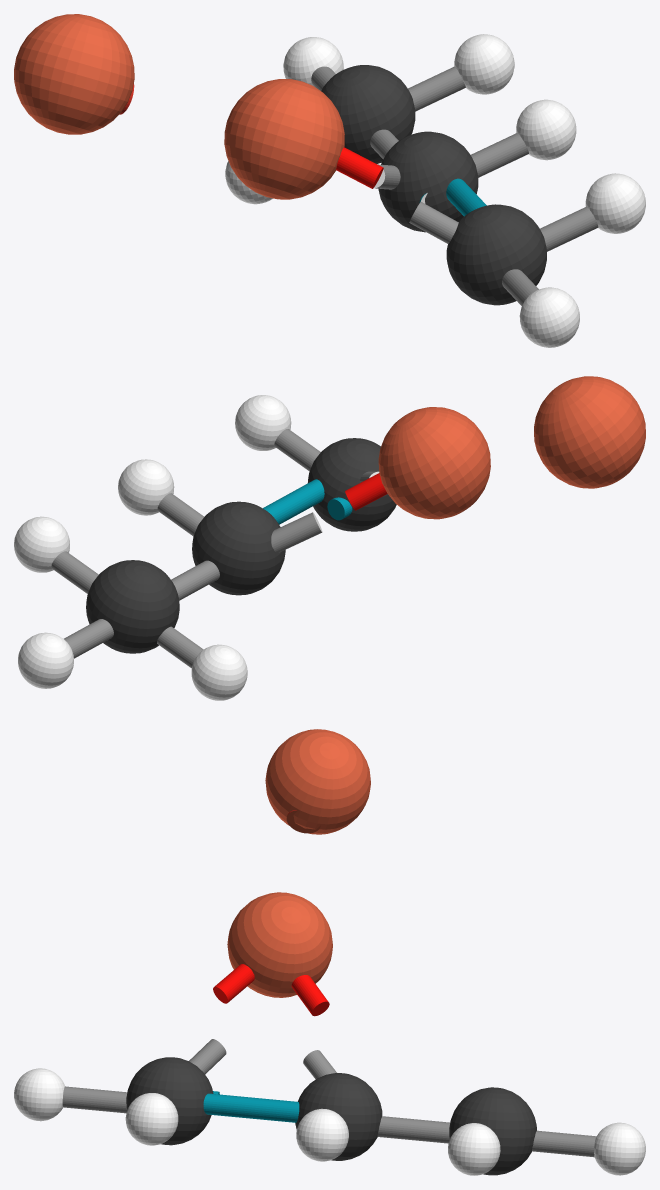
The model's file is electrophilic addition.fbx.
The picture shows the model from 3 angles, top to bottom: view 1: azimuth 30°, elevation 25°; view 2: azimuth 150°, elevation 25°; view 3: azimuth 270°, elevation 25°; orthographic projection. The views are drawn at different scales.
Visible parts, largest first — view 1: Sphere.017, Sphere.002, Sphere.004, Sphere.007, Cylinder.001, Sphere.000; view 2: Sphere.017, Sphere.002, Sphere.004, Sphere.000, Cylinder; view 3: Sphere.017, Sphere.002, Sphere.004, Cylinder.001, Cylinder, Sphere.007.
Boxes of the visible parts, bbox=[...] form: Sphere.017: bbox=[225, 34, 645, 347]; Sphere.002: bbox=[14, 14, 134, 134]; Sphere.004: bbox=[224, 79, 344, 199]; Sphere.007: bbox=[409, 202, 458, 243]; Cylinder.001: bbox=[336, 147, 383, 188]; Sphere.000: bbox=[374, 164, 400, 189]; Sphere.017: bbox=[14, 395, 396, 700]; Sphere.002: bbox=[534, 376, 645, 488]; Sphere.004: bbox=[378, 407, 490, 519]; Sphere.000: bbox=[271, 512, 322, 552]; Cylinder: bbox=[345, 473, 387, 510]; Sphere.017: bbox=[14, 1057, 645, 1175]; Sphere.002: bbox=[265, 729, 370, 834]; Sphere.004: bbox=[227, 892, 332, 997]; Cylinder.001: bbox=[213, 964, 254, 1003]; Cylinder: bbox=[291, 975, 329, 1016]; Sphere.007: bbox=[189, 1039, 226, 1074].
Bounding box in the file's own units: 1322 × 725 × 1435.
